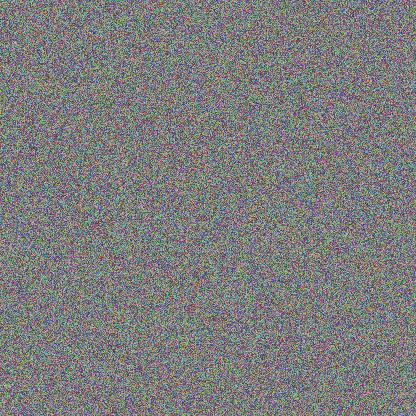occupied: (76, 226, 141, 290)
